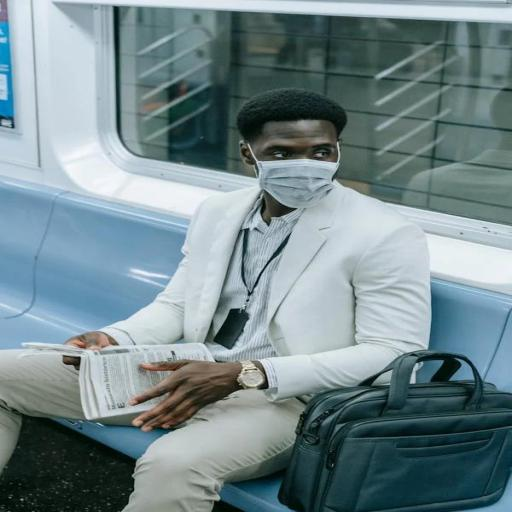mask: (226, 90, 369, 214)
